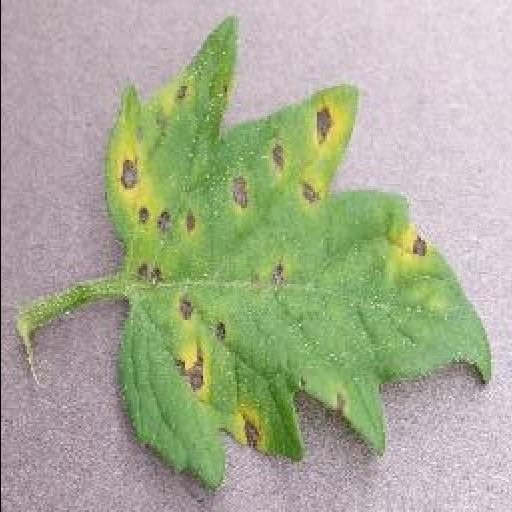disease_tomato: (100, 24, 488, 494)
